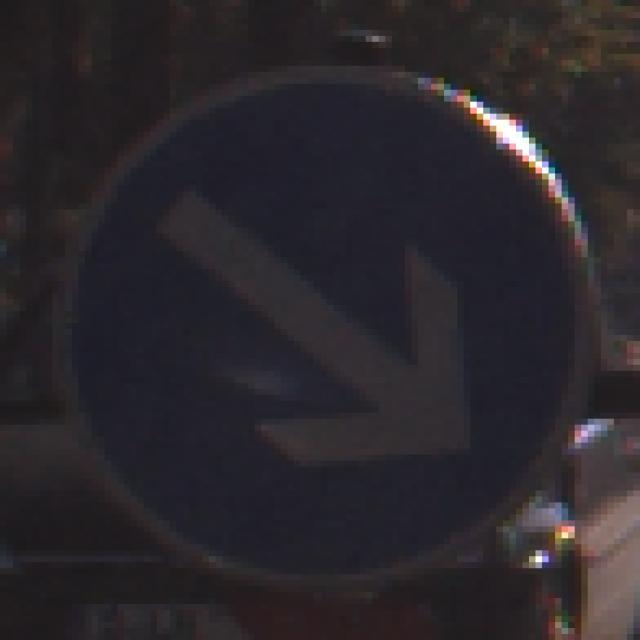compulsary keep right: (50, 66, 597, 591)
